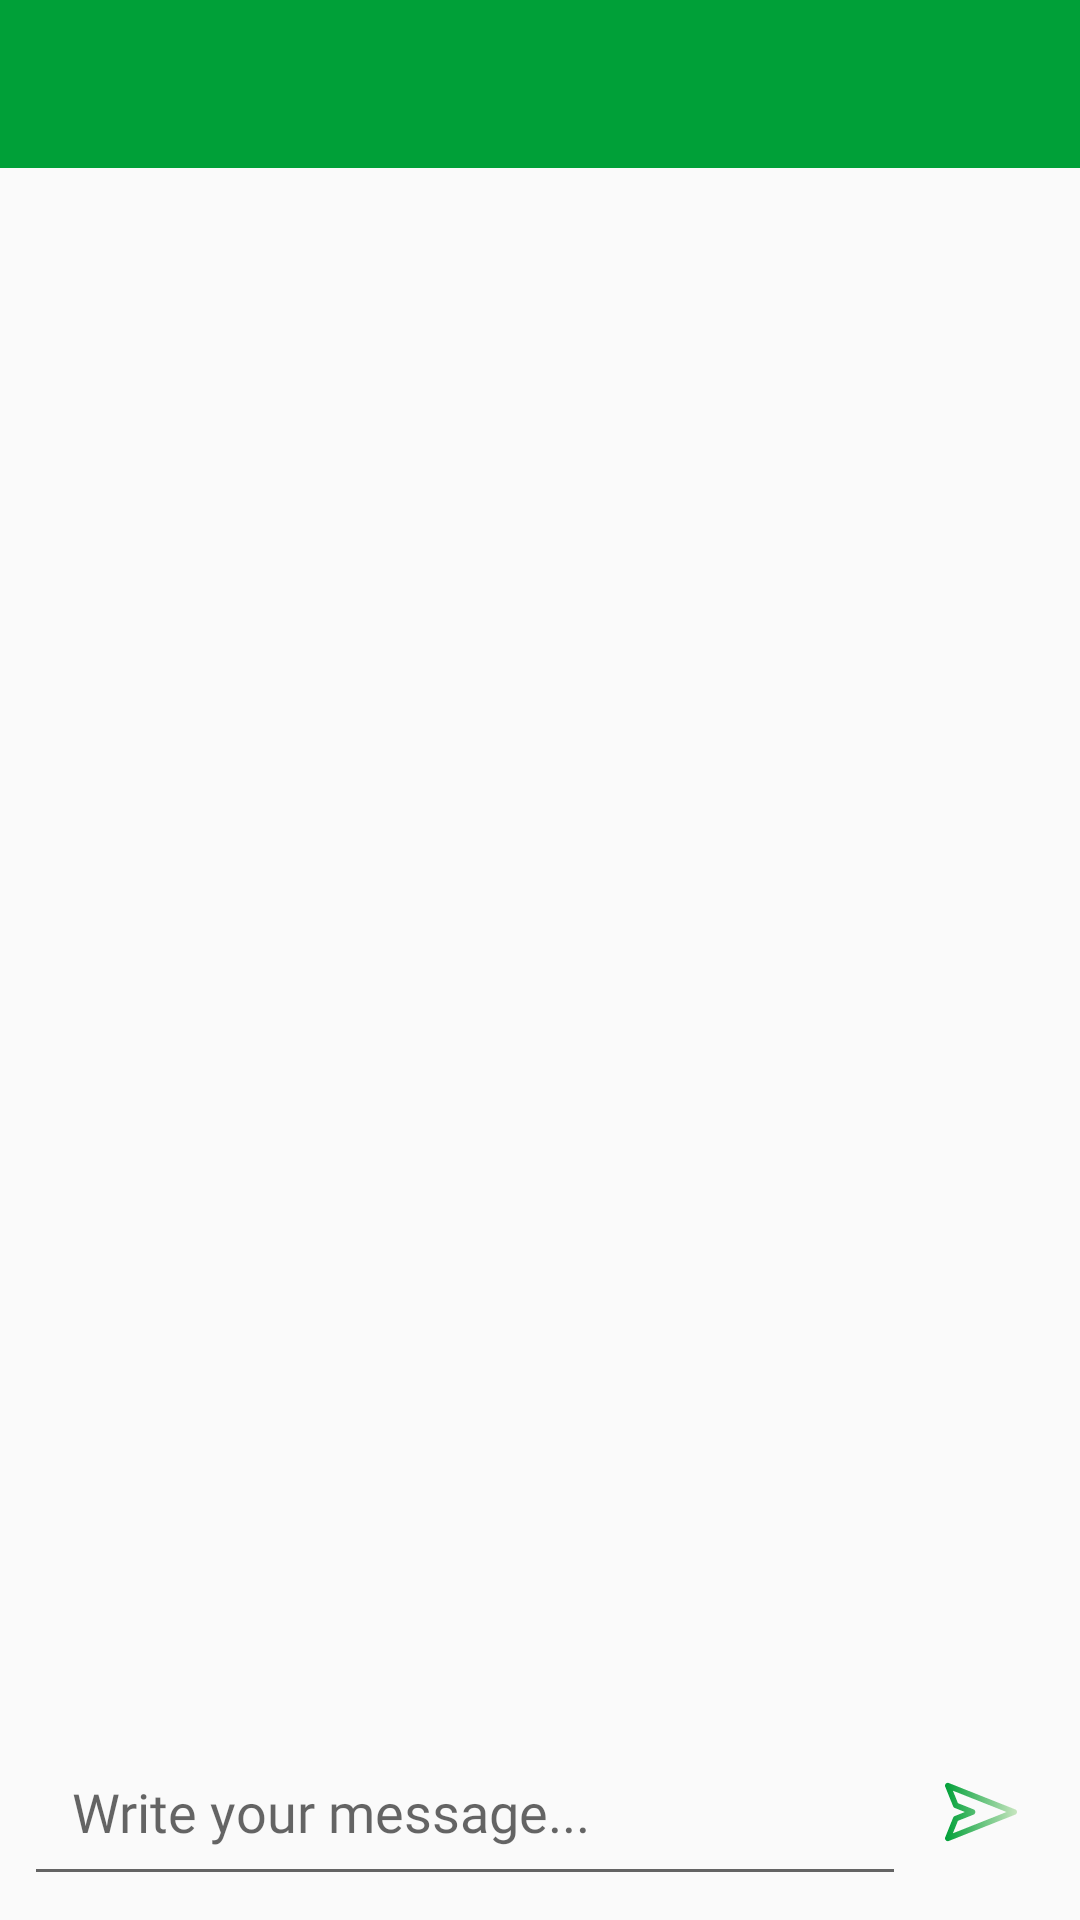

Icon bounding boxes for this 1080x1920 phone screenshot, format bbox=(x1, y1, x2, y2):
send message: bbox=(945, 1782, 1017, 1842)
